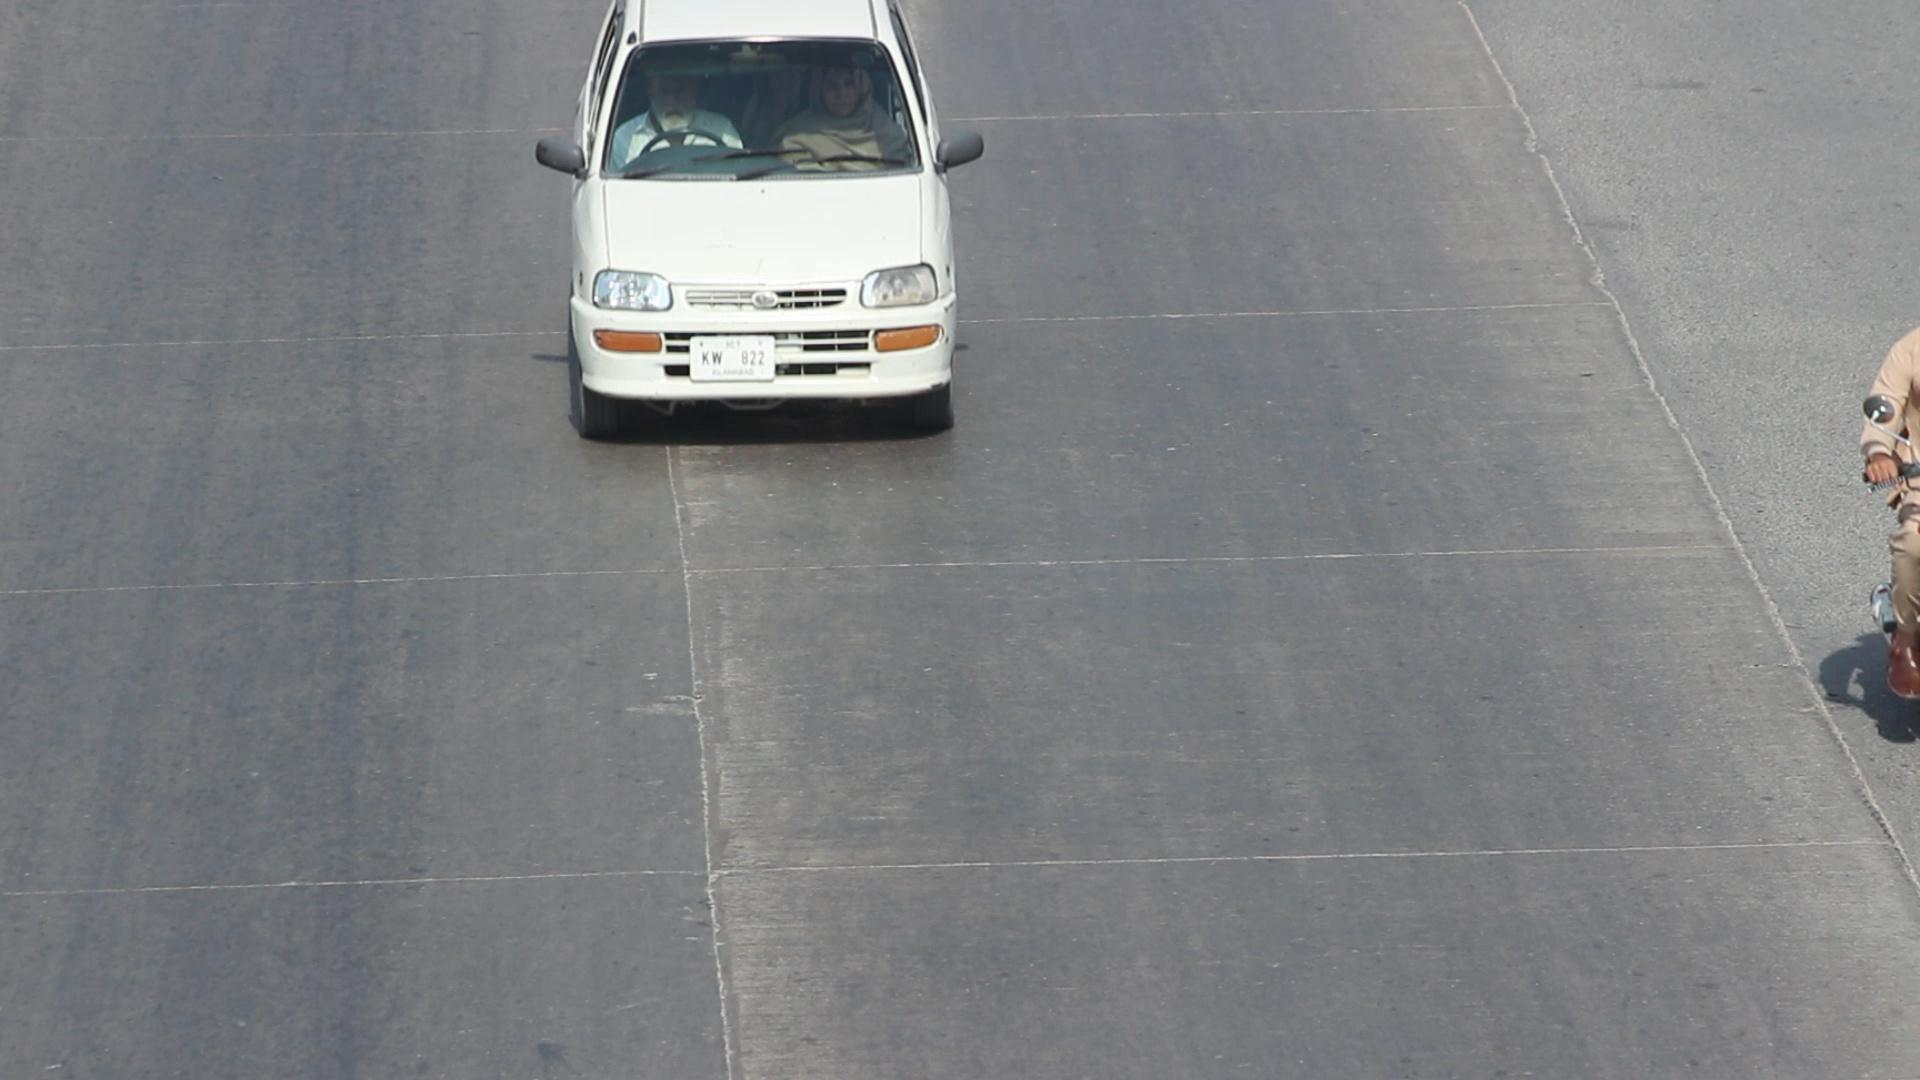windshield: (584, 26, 947, 200)
